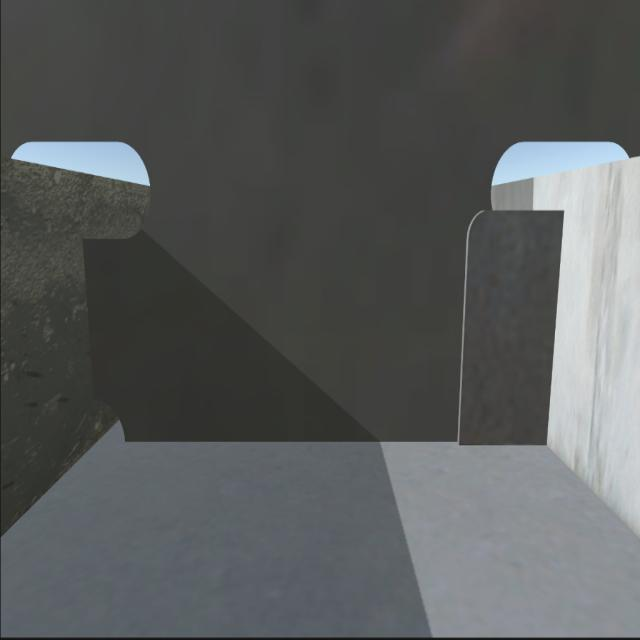fillet_hole: (94, 396, 128, 444)
fillet_yong_jeop_jang: (125, 431, 553, 453)
longi_yong_jeop_jang: (546, 210, 570, 467), (79, 240, 101, 407)
plate_CP05: (455, 195, 559, 448)
